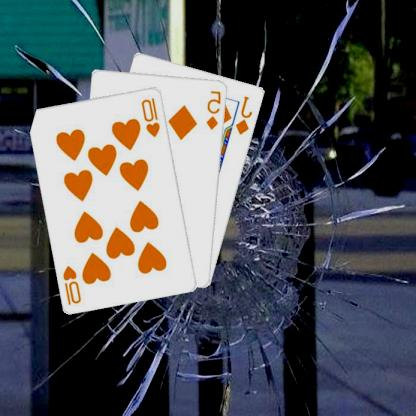10H: (141, 94, 164, 138), (61, 262, 84, 306)
5D: (206, 88, 224, 130)
JD: (235, 93, 256, 136)
